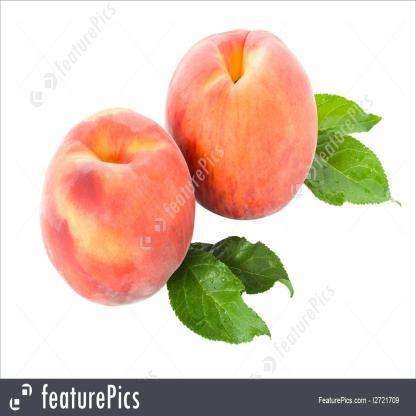Peach leaf: (167, 250, 274, 349), (305, 134, 403, 212), (207, 237, 296, 296), (308, 95, 388, 136)
